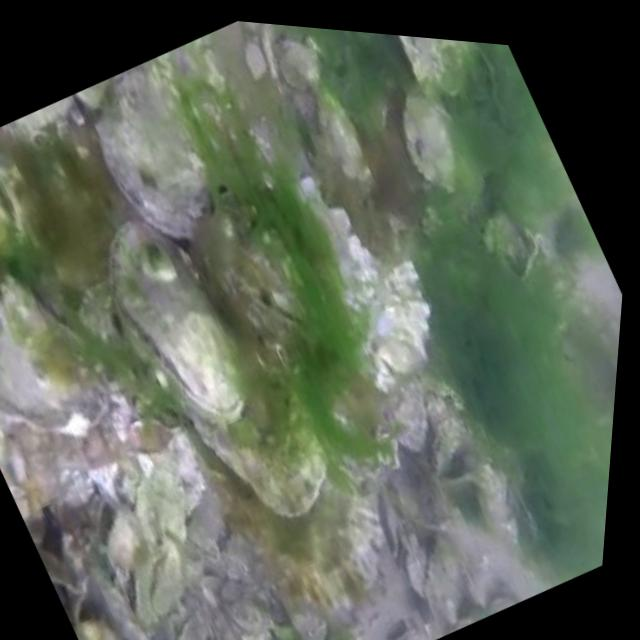Oyster-Closed: (70, 200, 287, 461)
Oyster-Indeterminate: (163, 334, 380, 558), (79, 70, 264, 266), (173, 180, 344, 372), (0, 241, 139, 451), (278, 480, 420, 636), (364, 65, 497, 213), (271, 77, 400, 216), (113, 524, 229, 631), (112, 453, 222, 565), (0, 132, 74, 264), (247, 22, 342, 106), (33, 537, 112, 636), (407, 533, 488, 623), (0, 141, 38, 317), (6, 84, 92, 151), (69, 597, 179, 640), (60, 69, 132, 127), (222, 579, 290, 640), (387, 534, 446, 597), (281, 606, 338, 640), (477, 582, 520, 620), (230, 623, 293, 640), (386, 622, 431, 640)
Oyster-Open: (411, 405, 515, 521), (362, 32, 477, 88)
